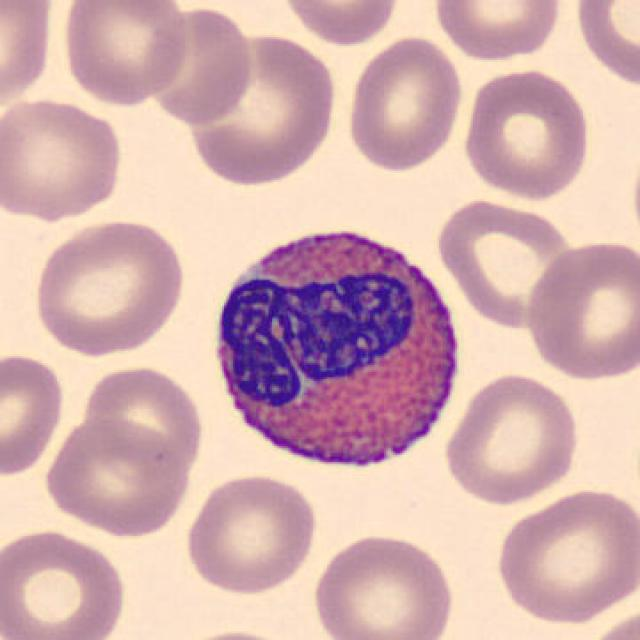Eosinophil: (201, 210, 471, 488)
RBC: (178, 30, 340, 189), (28, 215, 188, 358), (492, 485, 638, 626), (432, 196, 580, 330), (441, 370, 583, 508), (39, 414, 192, 540), (458, 65, 594, 203), (181, 469, 320, 596), (343, 32, 466, 175), (521, 235, 638, 382), (309, 529, 459, 640), (0, 93, 126, 224), (78, 362, 208, 483), (0, 525, 132, 640), (140, 2, 260, 128), (57, 0, 194, 108), (0, 349, 68, 480), (430, 0, 567, 63), (0, 0, 58, 116), (569, 0, 638, 92), (276, 0, 404, 48), (583, 604, 640, 640), (169, 626, 302, 640), (627, 132, 640, 259)
